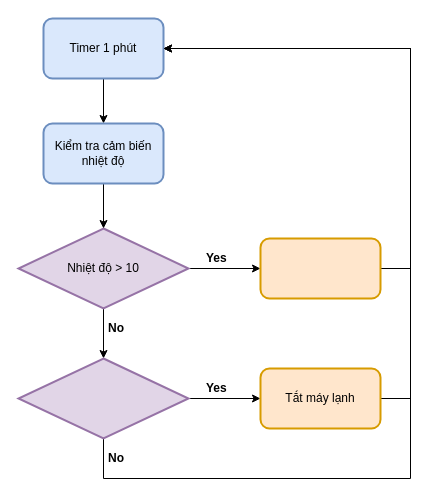
Some shapes in this 436 by 504 pixel diagram are drawn without their labels. Here are the shapes that lost their labels. From the top down, the centre of each, then its label:
At (320,268): "Bật máy lạnh".
At (103,398): "Nhiệt độ < 6".
